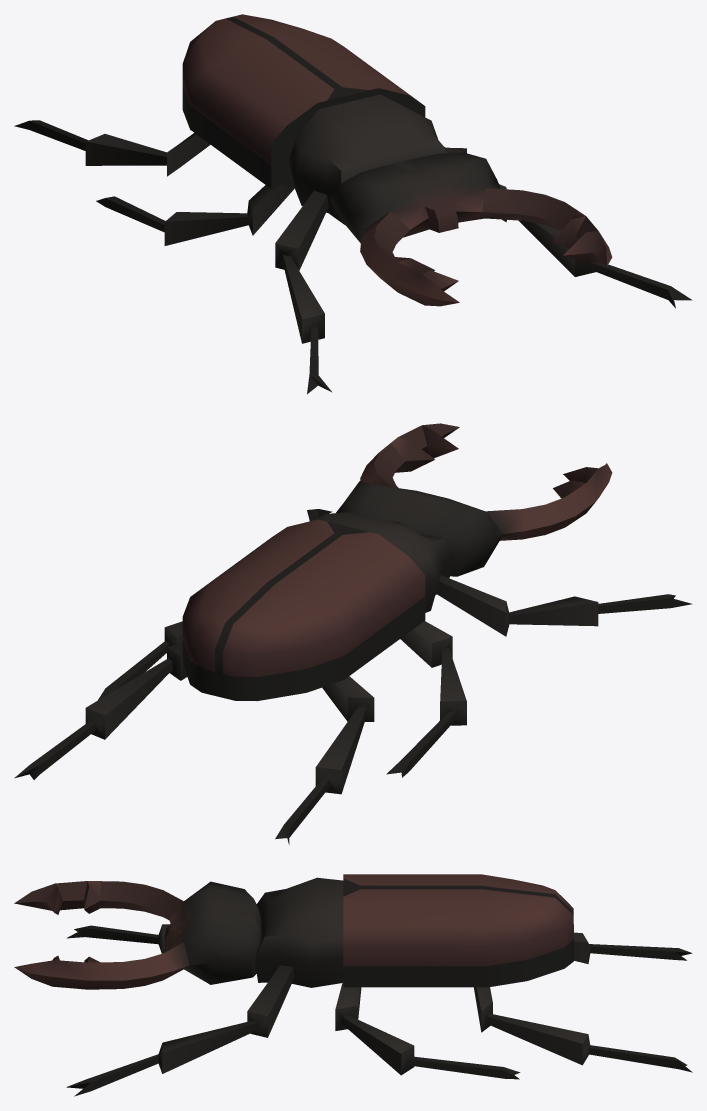
File: kit-beetle.glb
3 renders of one model, top to bottom at view 1: azimuth 30°, elevation 25°; view 2: azimuth 150°, elevation 25°; view 3: azimuth 270°, elevation 25°, orthographic. The views are drawn at different scales.
Visible parts, largest first — view 1: base; view 2: base; view 3: base.
Boxes of the visible parts, bbox=[...] form: base: bbox=[14, 14, 692, 394]; base: bbox=[14, 423, 692, 844]; base: bbox=[14, 874, 692, 1096].
Bounding box in the file's own units: 1.65 × 0.5747 × 2.82.
